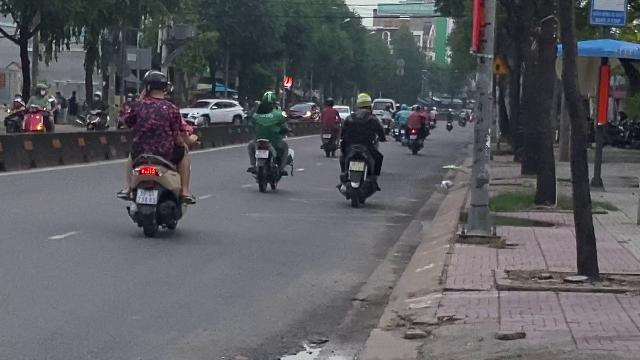helmet: (139, 69, 169, 97), (355, 93, 373, 109)
licenseplate: (136, 189, 156, 203), (350, 162, 364, 170)
motorcyclist: (116, 68, 196, 238), (334, 90, 388, 210)
